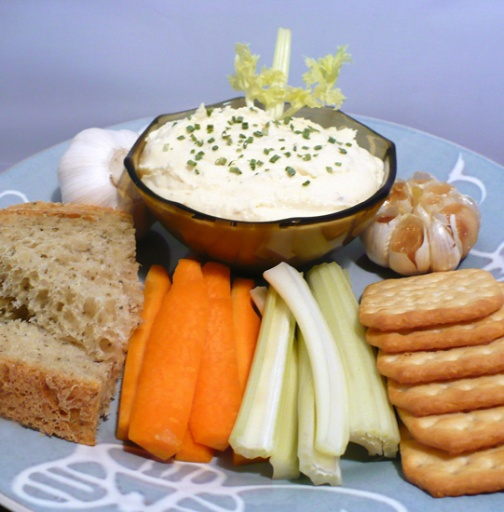background: (1, 99, 396, 399), (109, 22, 303, 177)
